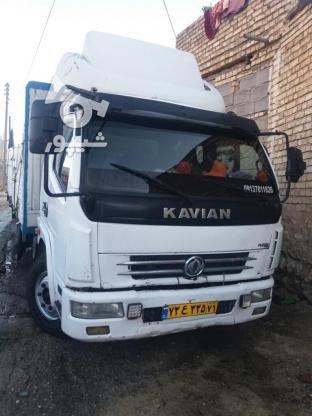car: (163, 301, 218, 321)
